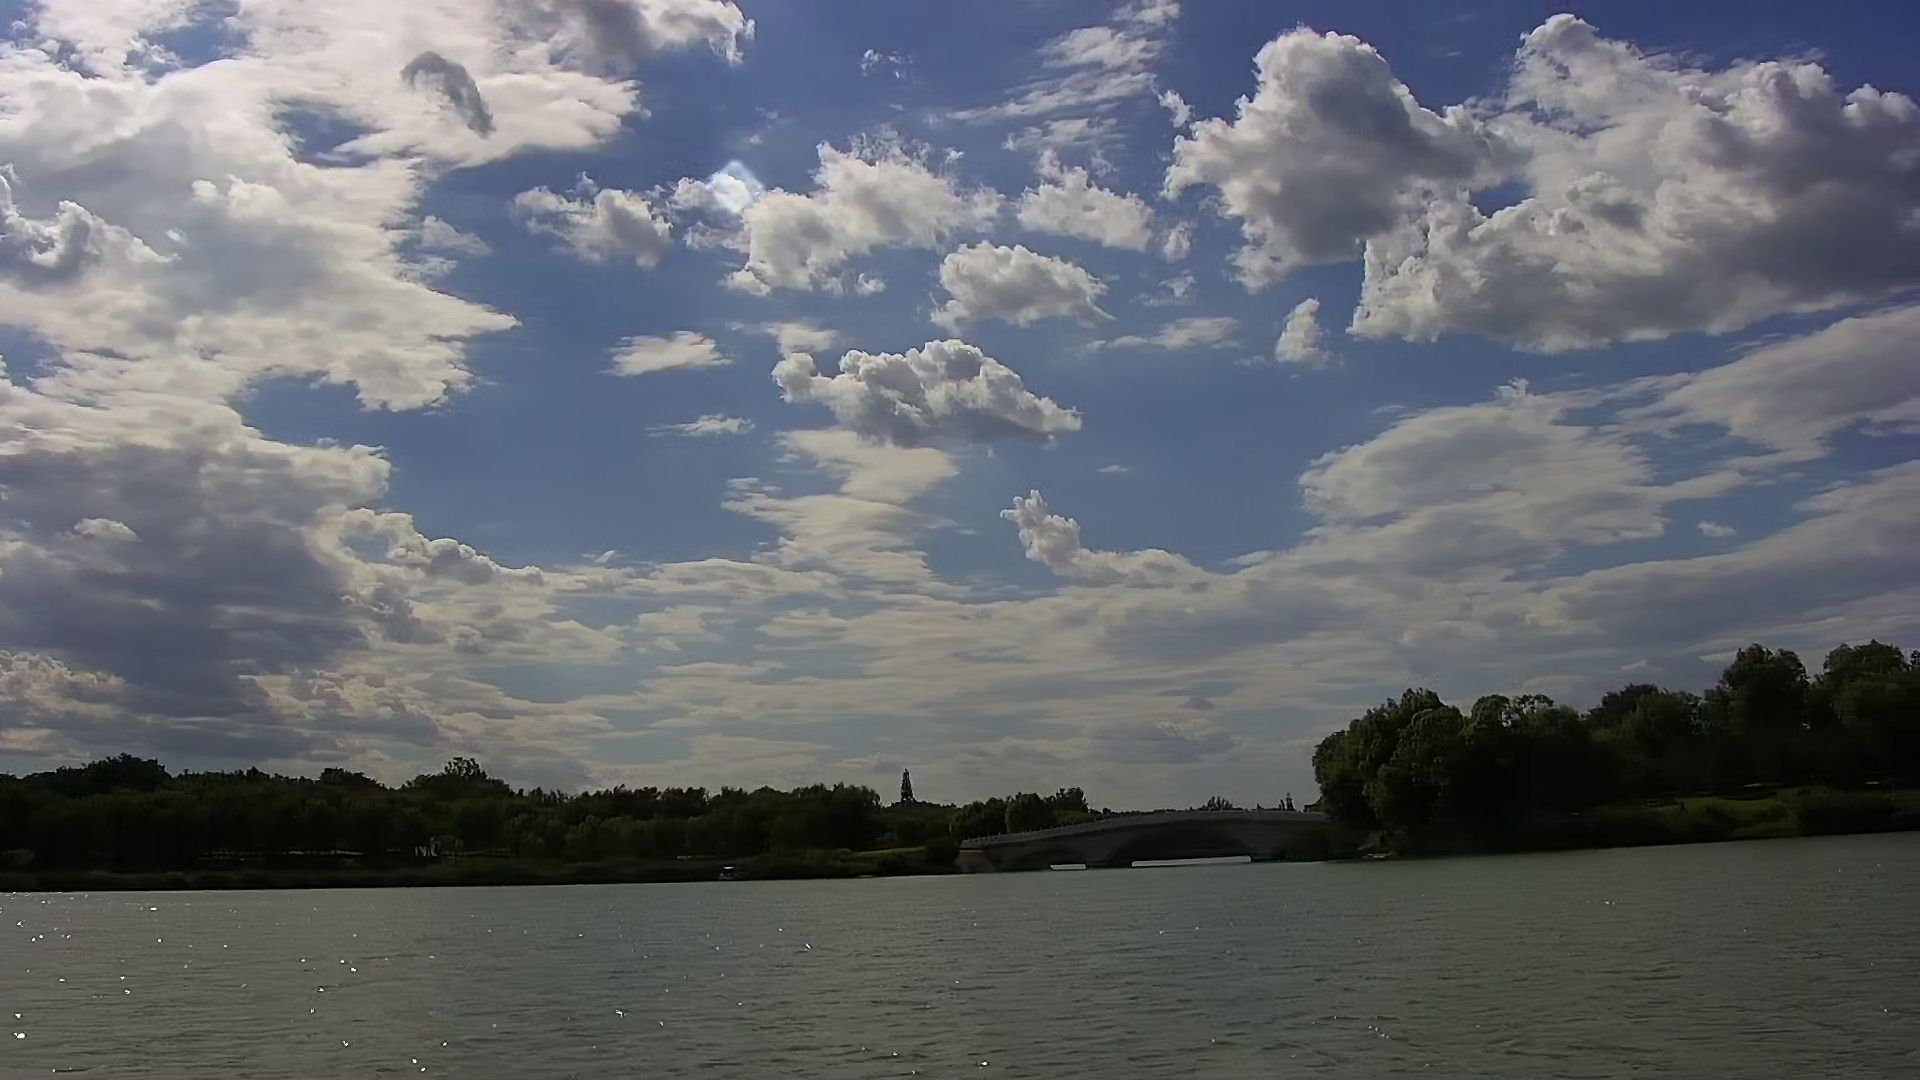bridge: (955, 804, 1315, 866)
